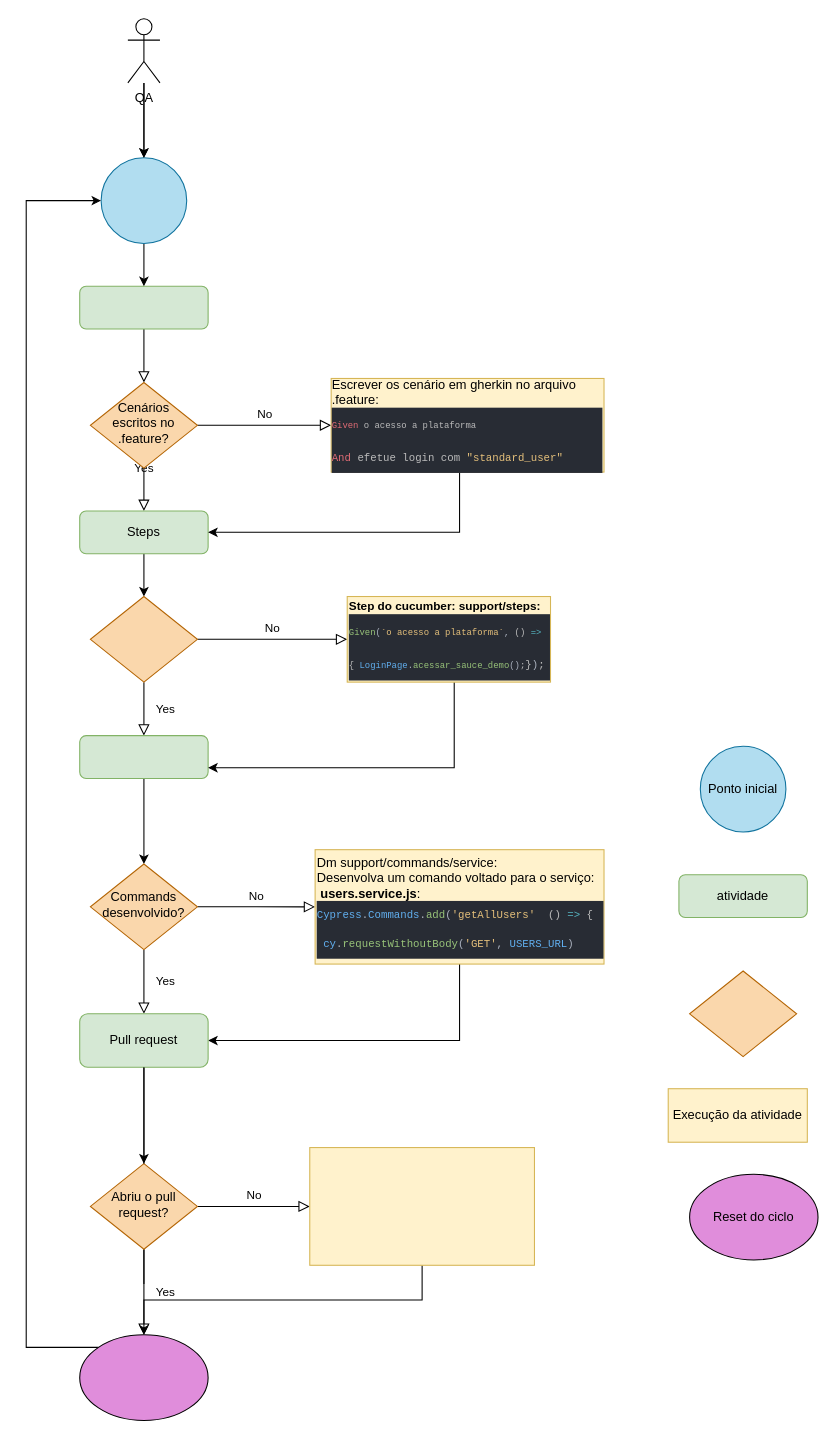
This 837x1439 diagram has some shape labels left out. Each missing label, with the centre of its shape:
Branch feature: the point at 143,200
Commands/Service: the point at 143,756
Decisao: the point at 743,1013
Faça o commit --> git push para branch feature --> abra o pull request: the point at 421,1206
Feature: the point at 143,307
Iniciar o flow novamente: the point at 143,1377
Step definido?: the point at 143,638
